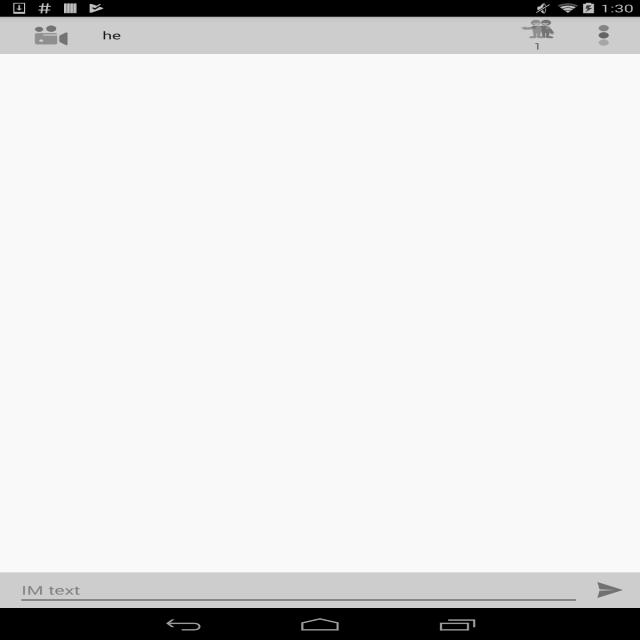EditText: (17, 575, 580, 605)
ImageButton: (580, 574, 640, 606)
ImageView: (580, 19, 632, 52)
TextView: (102, 19, 504, 52), (520, 18, 572, 52)
